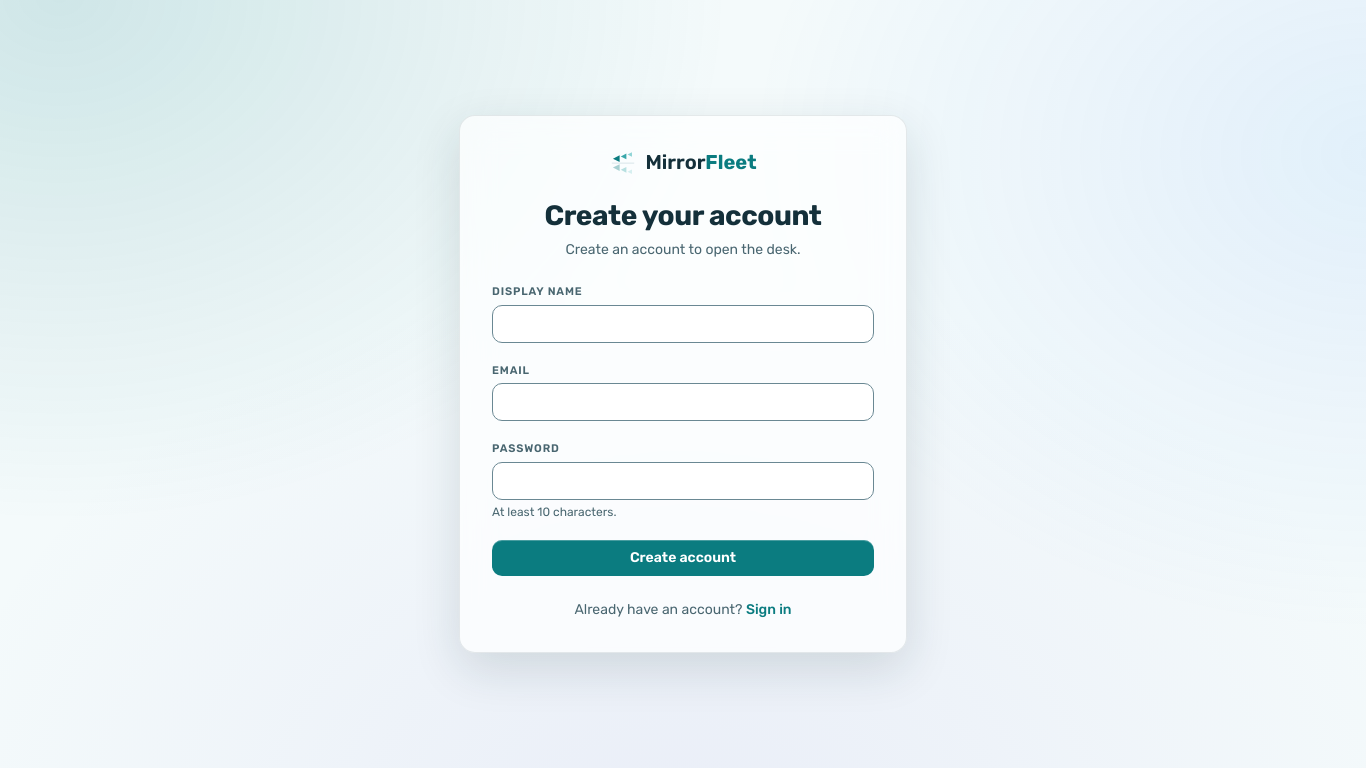
Test: closed registration says invite only at once and keeps what was typed
In the field labelled "Display name": (683, 324) [492,305,874,343], type "Ada Trader"
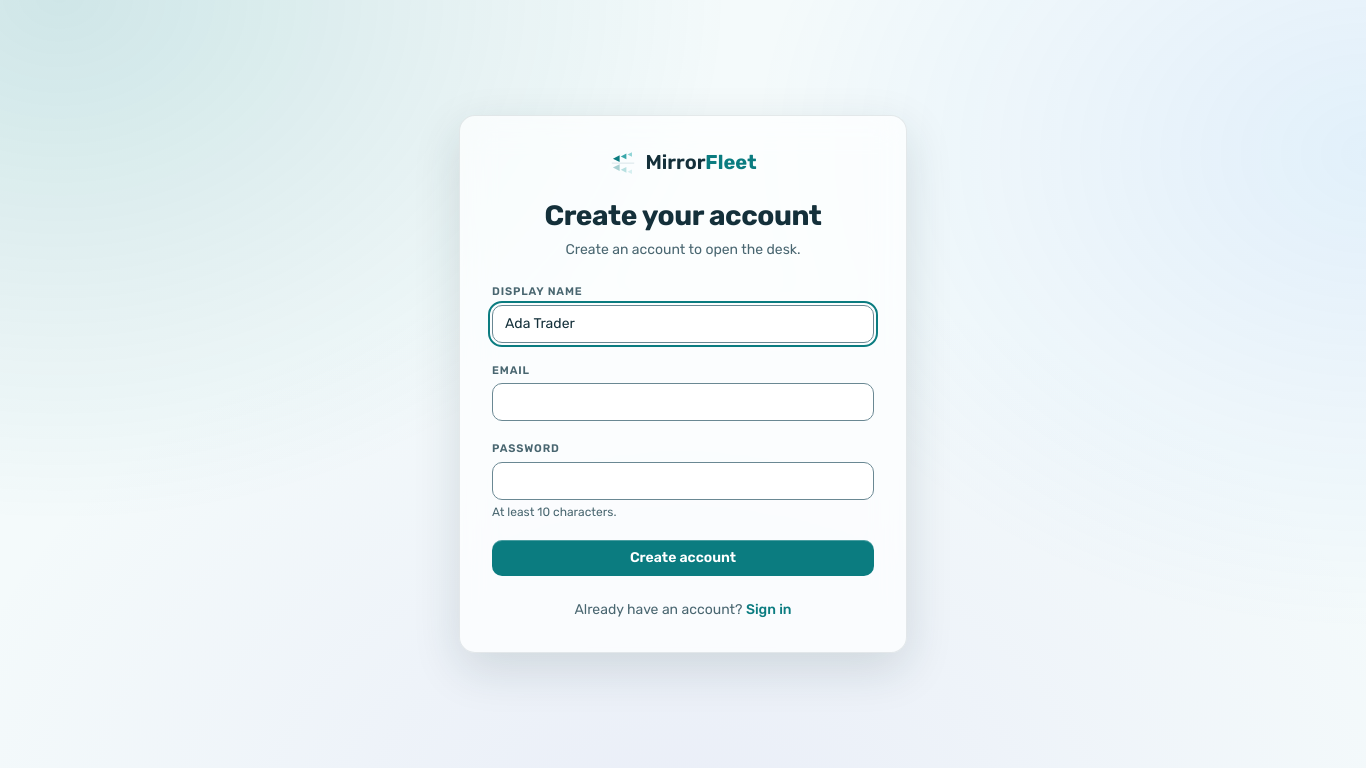
In the field labelled "Email": (683, 402) [492,383,874,421], type "ada@example.com"
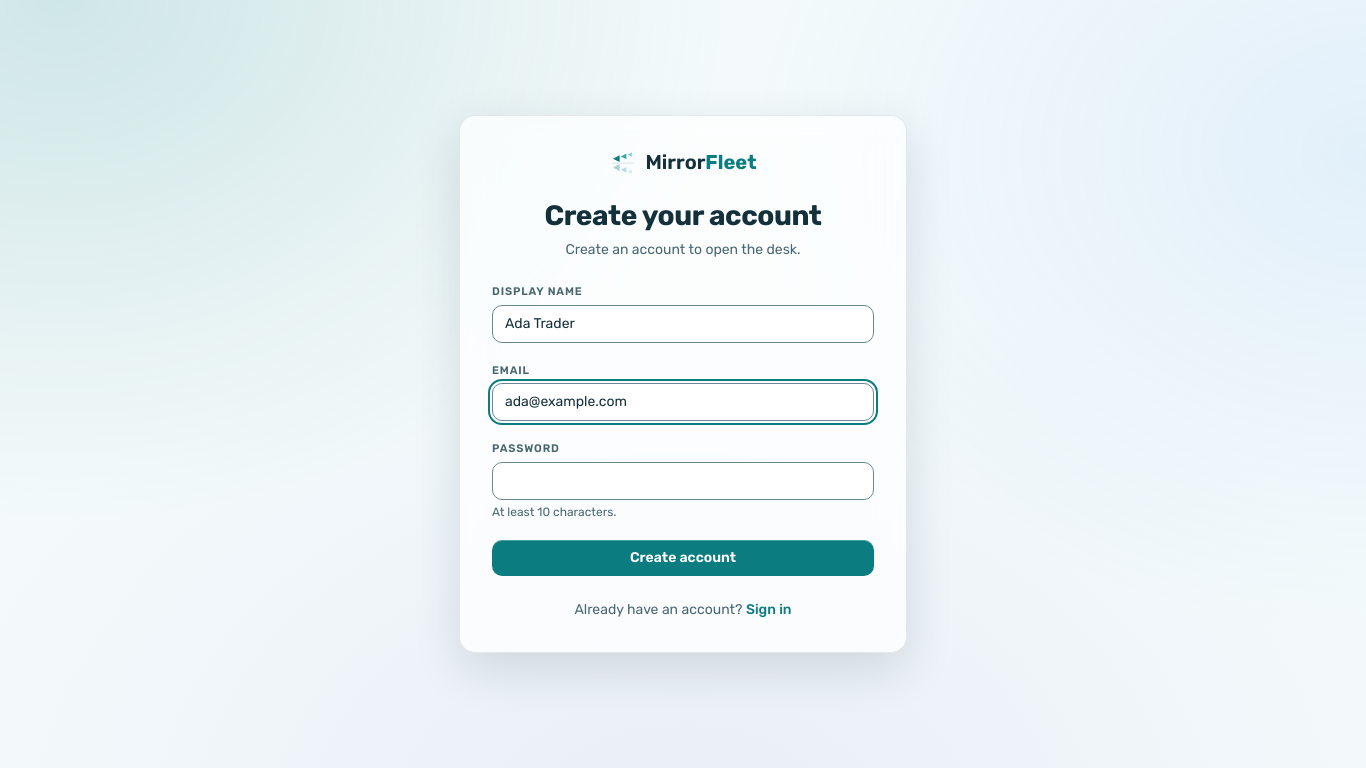
In the password field labelled "Password": (683, 481) [492,462,874,500], type "correcthorsebattery"
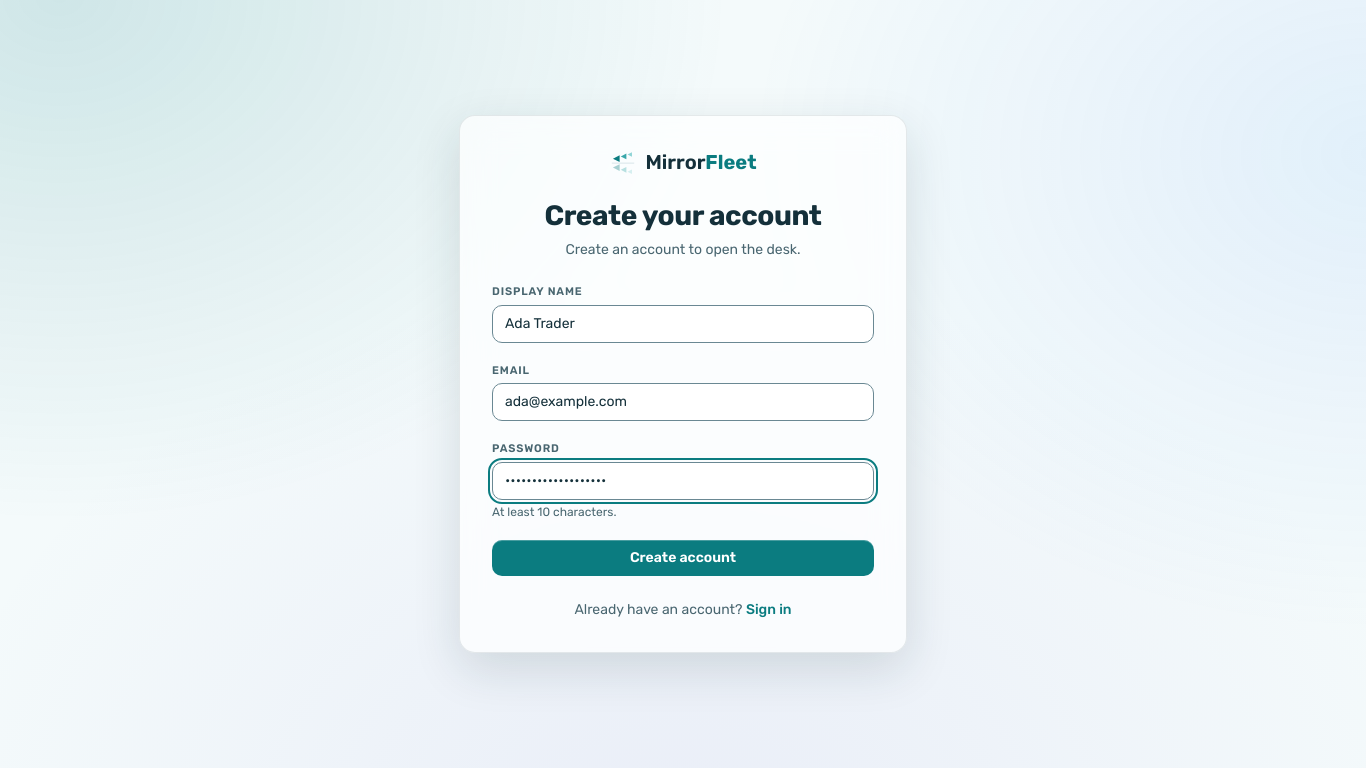
Click the button "Create account": click(683, 558) [492,540,874,576]
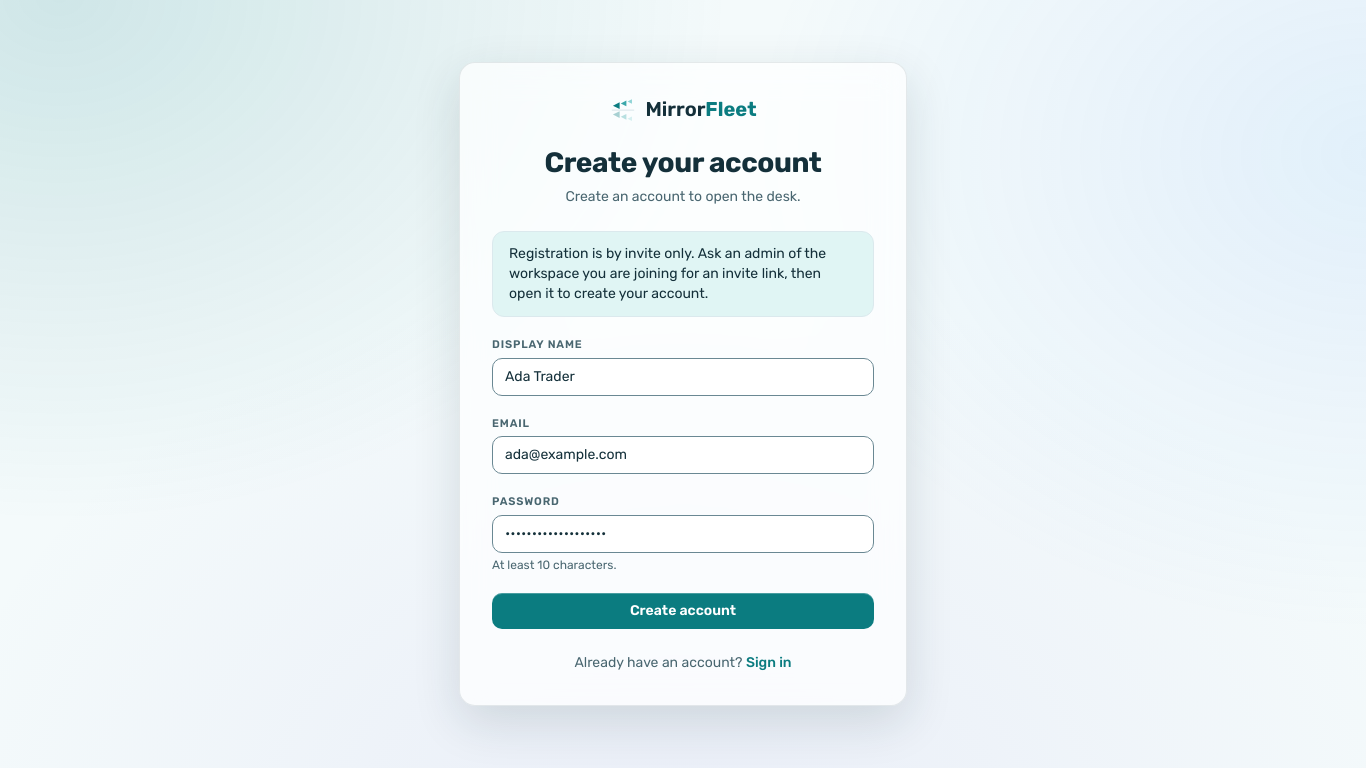
Expected: the message shows "invite only", [509,245,826,302]
